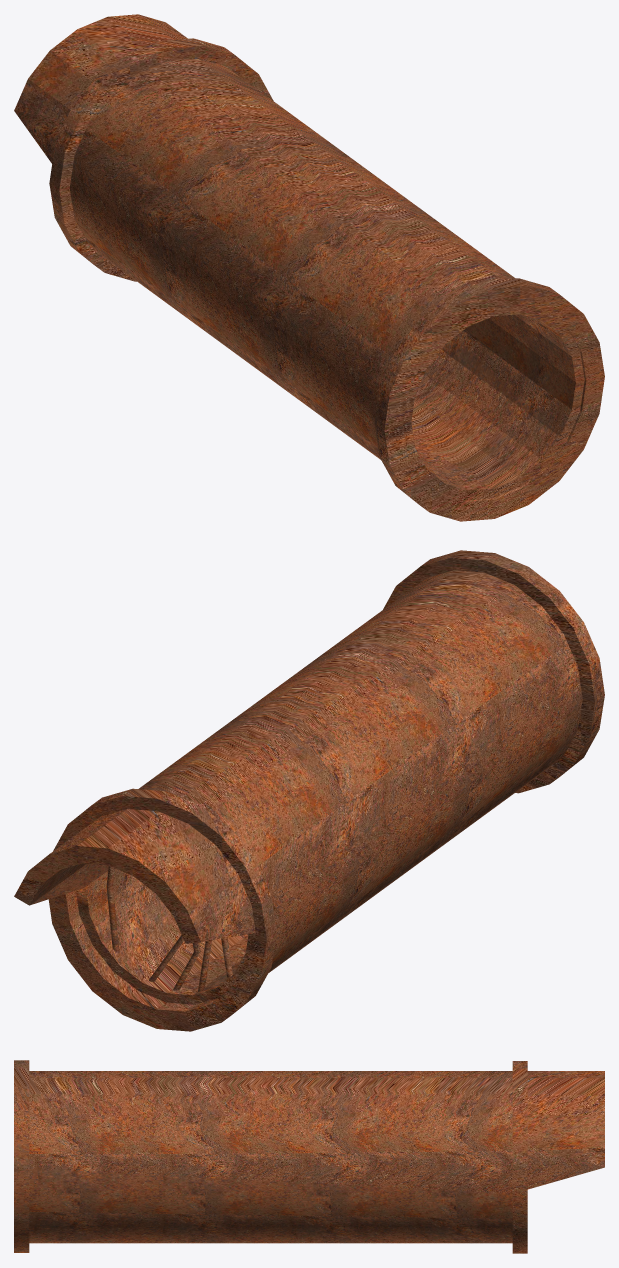
Rendered from Pipe 1 c.fbx.
3 renders of one model, top to bottom at view 1: azimuth 30°, elevation 25°; view 2: azimuth 150°, elevation 25°; view 3: azimuth 270°, elevation 25°, orthographic. The views are drawn at different scales.
Visible parts, largest first — view 1: pSphere10; view 2: pSphere10; view 3: pSphere10.
Part boxes in pixels (left/top/right/bottom): pSphere10: left=14, top=14, right=604, bottom=521; pSphere10: left=14, top=550, right=604, bottom=1031; pSphere10: left=14, top=1060, right=604, bottom=1253.
Size of the model in its own units: 1766 by 1751 by 5327.
